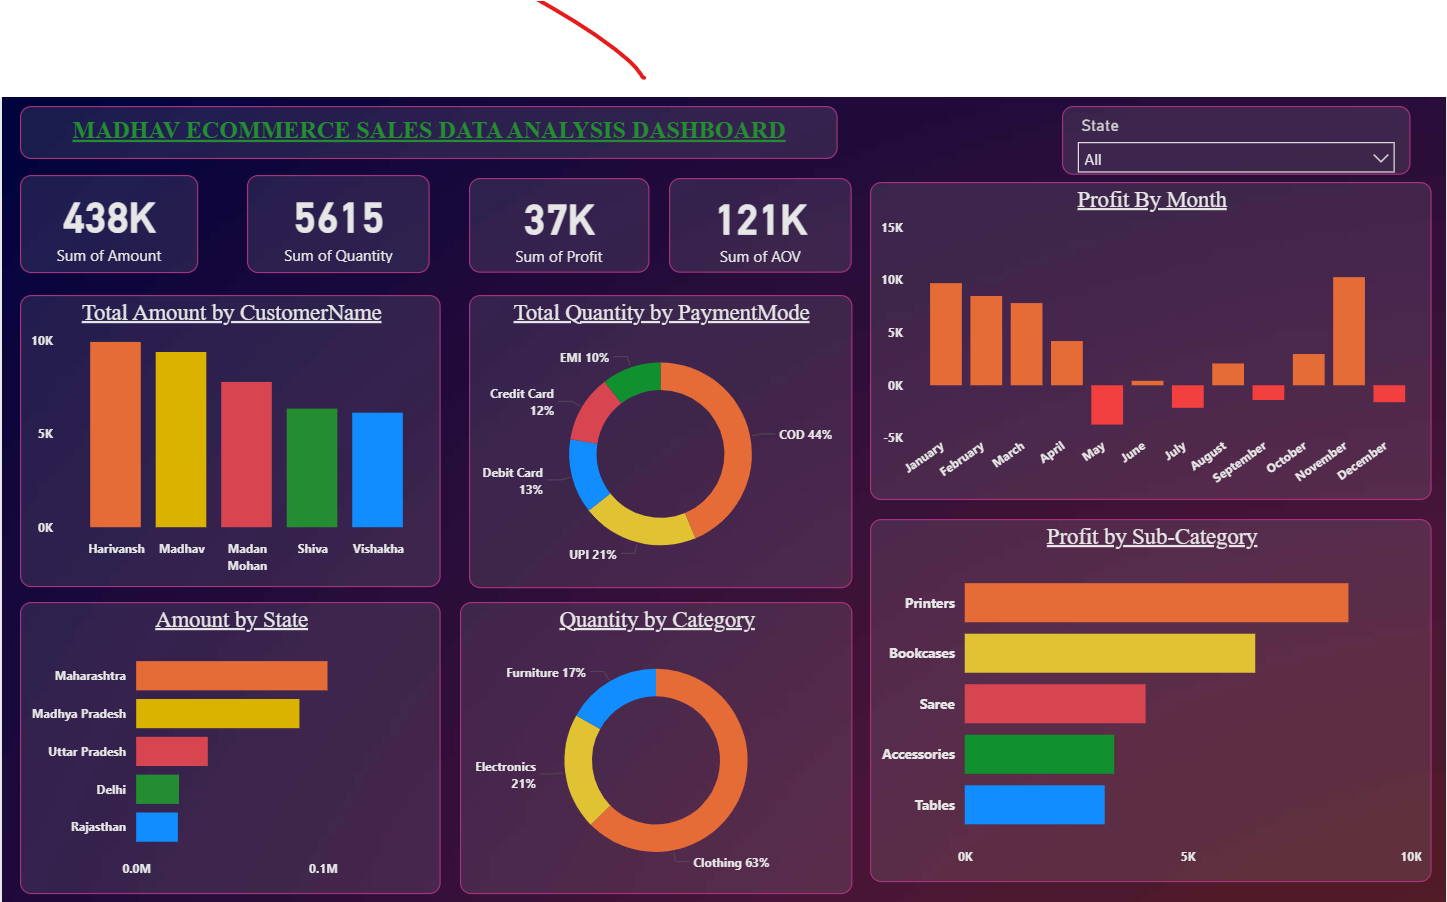

The dashboard page shown, as its layout file describes it:
{"tool":"powerbi","page":{"name":"Page 1","canvas":[1280,720],"ordinal":0},"visuals":[{"type":"textbox","box":[16,10.6,725.3,47],"z":0},{"type":"columnChart","title":"Profit By Month","fields":{"Y":["Sum(Details.Profit)"],"Category":["Orders.Order Date.Variation.Date Hierarchy.Month"]},"box":[769.7,78,498.3,282],"z":1000},{"type":"barChart","title":" Profit by Sub-Category","fields":{"Category":["Details.Sub-Category"],"Y":["Sum(Details.Profit)"]},"box":[769.7,376.8,498.3,321.9],"z":2000},{"type":"donutChart","title":" Quantity by Category","fields":{"Category":["Details.Category"],"Y":["Sum(Details.Quantity)"]},"box":[406.1,450.4,347.6,258.9],"z":3000},{"type":"donutChart","title":"Total Quantity by PaymentMode","fields":{"Category":["Details.PaymentMode"],"Y":["Sum(Details.Quantity)"]},"box":[414.1,178.2,339.6,259.8],"z":4000},{"type":"card","fields":{"Values":["Sum(Details.Amount)"]},"box":[16,71.8,157.8,86.9],"z":5000},{"type":"card","fields":{"Values":["Sum(Details.Quantity)"]},"box":[217.2,71.8,162.3,86.9],"z":6000},{"type":"card","fields":{"Values":["Sum(Details.Profit)"]},"box":[414.1,74.5,159.6,84.2],"z":7000},{"type":"card","fields":{"Values":["Sum(Details.AOV)"]},"box":[591.4,74.5,162.3,84.2],"z":8000},{"type":"barChart","title":" Amount by State","fields":{"Category":["Orders.State"],"Y":["Sum(Details.Amount)"]},"box":[16,450.4,373.3,258.9],"z":9000},{"type":"columnChart","title":"Total Amount by CustomerName","fields":{"Category":["Orders.CustomerName"],"Y":["Sum(Details.Amount)"]},"box":[16,178.2,373.3,258.9],"z":10000},{"type":"slicer","fields":{"Values":["Orders.State"]},"box":[939.9,10.6,309.5,61.2],"z":11000}]}

Visuals, with their boxes on the page's 1280x720 design canvas (x1, y1, x2, y2). These are canvas units, not pixel positions in the 1447x902 screenshot, which may show the page scaled, cropped or inside an application window:
textbox: bbox=[16, 11, 741, 58]
"Profit By Month" columnChart: bbox=[770, 78, 1268, 360]
" Profit by Sub-Category" barChart: bbox=[770, 377, 1268, 699]
" Quantity by Category" donutChart: bbox=[406, 450, 754, 709]
"Total Quantity by PaymentMode" donutChart: bbox=[414, 178, 754, 438]
card - Sum(Details.Amount): bbox=[16, 72, 174, 159]
card - Sum(Details.Quantity): bbox=[217, 72, 380, 159]
card - Sum(Details.Profit): bbox=[414, 74, 574, 159]
card - Sum(Details.AOV): bbox=[591, 74, 754, 159]
" Amount by State" barChart: bbox=[16, 450, 389, 709]
"Total Amount by CustomerName" columnChart: bbox=[16, 178, 389, 437]
slicer - Orders.State: bbox=[940, 11, 1249, 72]
